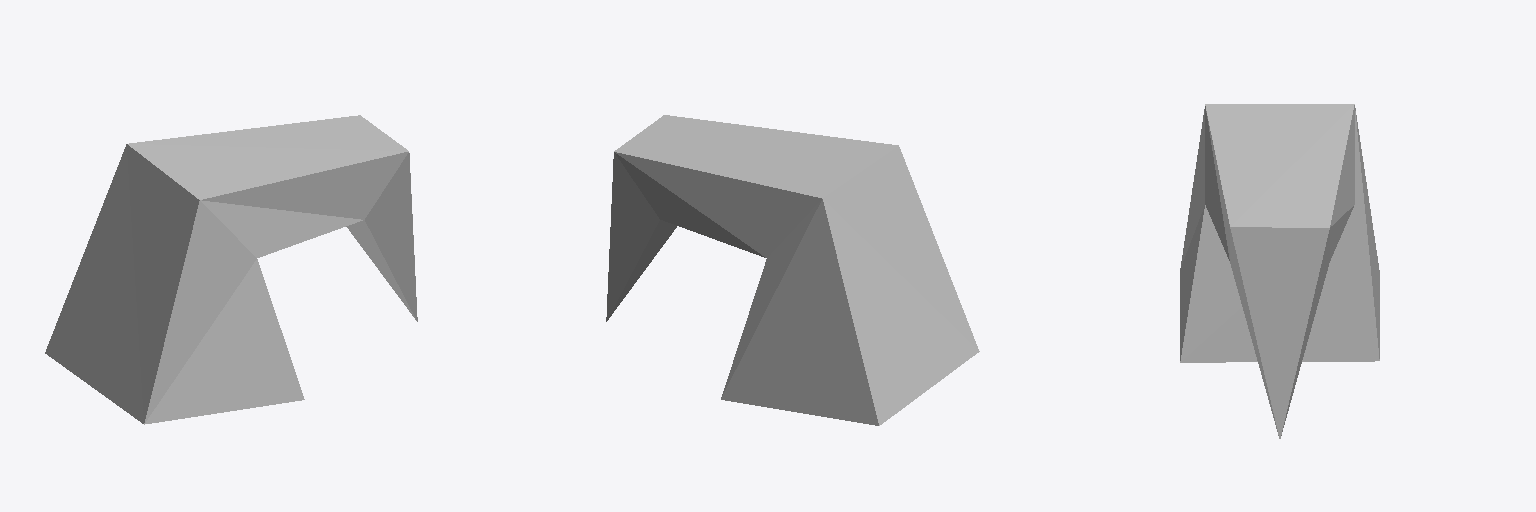
File: skeletal_000021.obj
3 renders of one model, left to right at view 1: azimuth 30°, elevation 25°; view 2: azimuth 150°, elevation 25°; view 3: azimuth 270°, elevation 25°, orthographic.
Visible parts, largest first — view 1: Cube; view 2: Cube; view 3: Cube.
Boxes of the visible parts, x1=… form: Cube: x1=45, y1=115, x2=417, y2=424; Cube: x1=606, y1=115, x2=979, y2=425; Cube: x1=1180, y1=104, x2=1379, y2=438.
Size of the model in its own units: 3.74 by 2.37 by 2.